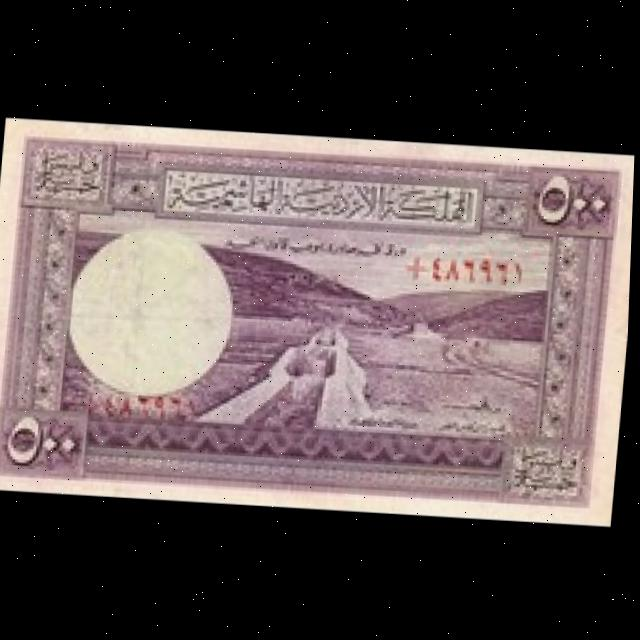banknote: (0, 124, 634, 511)
